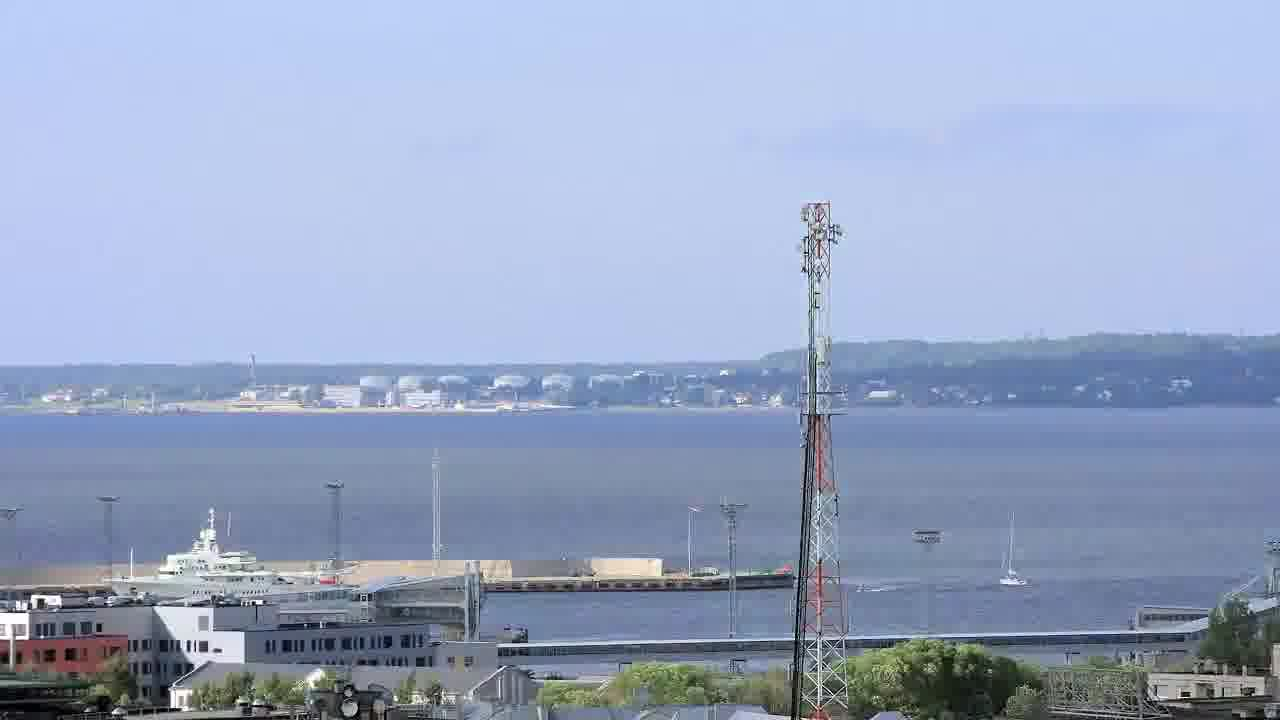type-0: (988, 546, 1054, 603)
type-3: (88, 507, 346, 605)
